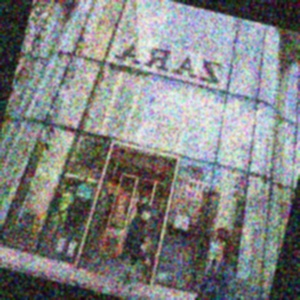zara: (169, 18, 282, 55)
